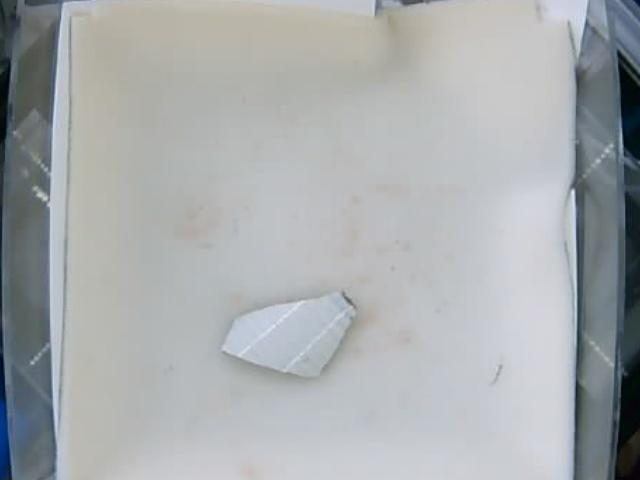China: (223, 286, 358, 378)
